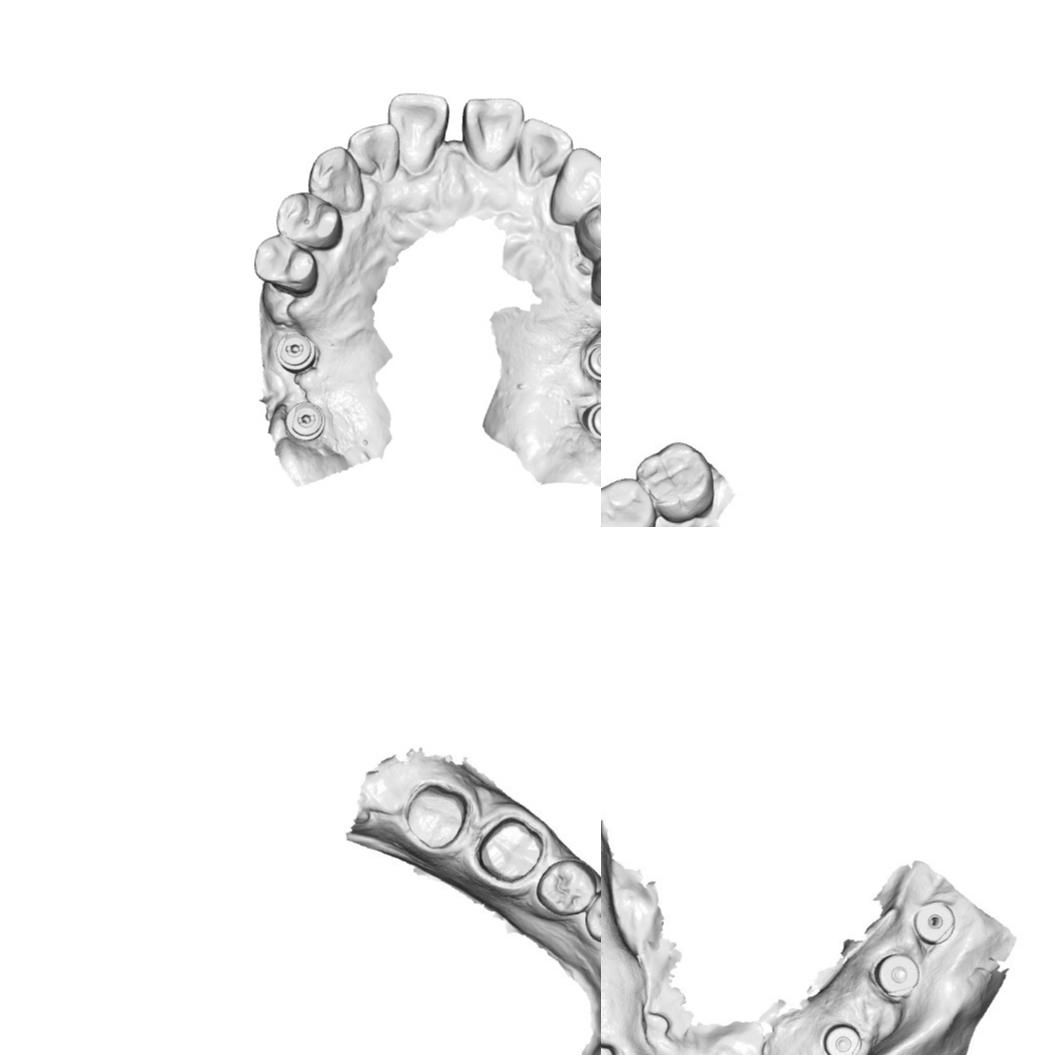canine: (547, 145, 601, 226), (304, 144, 365, 214)
crown: (474, 815, 546, 885), (404, 781, 472, 852)
implant: (911, 903, 952, 943), (880, 957, 916, 992), (827, 1026, 864, 1055)
implant_minus: (274, 331, 316, 371), (287, 403, 328, 443), (581, 401, 601, 443), (583, 339, 601, 383)
implant_plus: (601, 1037, 618, 1055)
incisor: (385, 91, 450, 174), (458, 95, 525, 173), (511, 116, 576, 186), (344, 121, 399, 180)
molar: (633, 441, 716, 523), (601, 475, 654, 527)
premolar: (274, 190, 345, 252), (251, 233, 319, 296), (538, 862, 594, 916), (572, 192, 601, 258), (587, 891, 601, 944)
